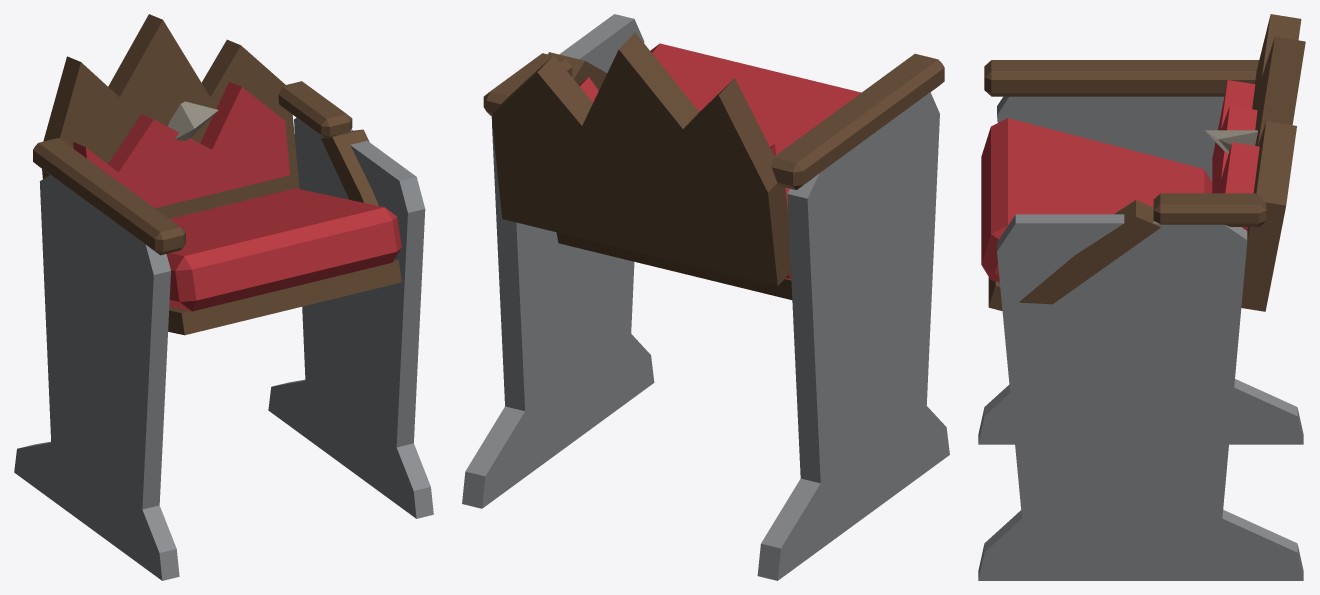
The model's file is seat_broken_a.glb.
The picture shows the model from 3 angles, left to right: view 1: azimuth 30°, elevation 25°; view 2: azimuth 150°, elevation 25°; view 3: azimuth 270°, elevation 25°; orthographic projection. The views are drawn at different scales.
Visible parts, largest first — view 1: steel__seat_broken_a__solid, dark_wood__seat_broken_a__solid, velvet__seat_broken_a__solid, fabric__seat_broken_a__solid; view 2: steel__seat_broken_a__solid, dark_wood__seat_broken_a__solid, velvet__seat_broken_a__solid; view 3: steel__seat_broken_a__solid, dark_wood__seat_broken_a__solid, velvet__seat_broken_a__solid, fabric__seat_broken_a__solid.
Boxes of the visible parts, bbox=[...] form: steel__seat_broken_a__solid: bbox=[14, 117, 433, 580]; dark_wood__seat_broken_a__solid: bbox=[33, 14, 401, 335]; velvet__seat_broken_a__solid: bbox=[73, 81, 401, 311]; fabric__seat_broken_a__solid: bbox=[168, 101, 218, 140]; steel__seat_broken_a__solid: bbox=[462, 14, 949, 580]; dark_wood__seat_broken_a__solid: bbox=[483, 32, 944, 299]; velvet__seat_broken_a__solid: bbox=[579, 43, 861, 279]; steel__seat_broken_a__solid: bbox=[978, 96, 1303, 580]; dark_wood__seat_broken_a__solid: bbox=[984, 14, 1305, 311]; velvet__seat_broken_a__solid: bbox=[981, 80, 1259, 282]; fabric__seat_broken_a__solid: bbox=[1205, 130, 1257, 153].
Size of the model in its own units: 0.556 by 0.8309 by 0.5232.
